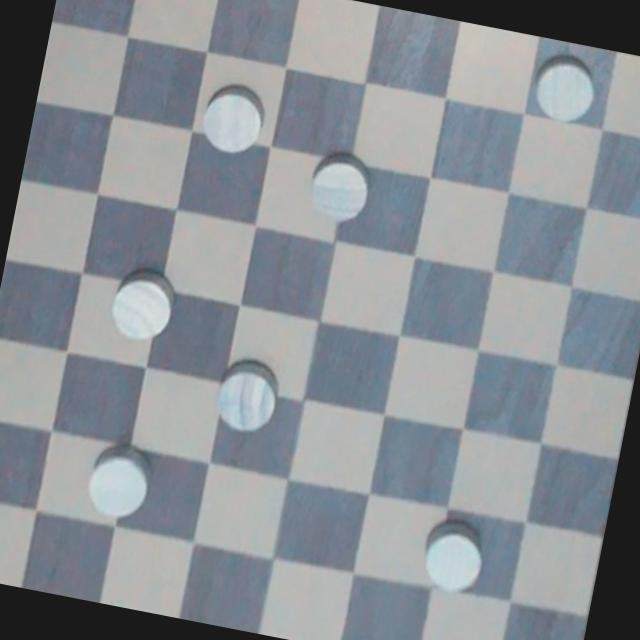BOARD: (0, 0, 640, 640)
white: (412, 508, 497, 608), (77, 436, 166, 531), (103, 260, 189, 350), (208, 350, 288, 444), (192, 77, 274, 162), (301, 146, 380, 234), (526, 46, 606, 128)
